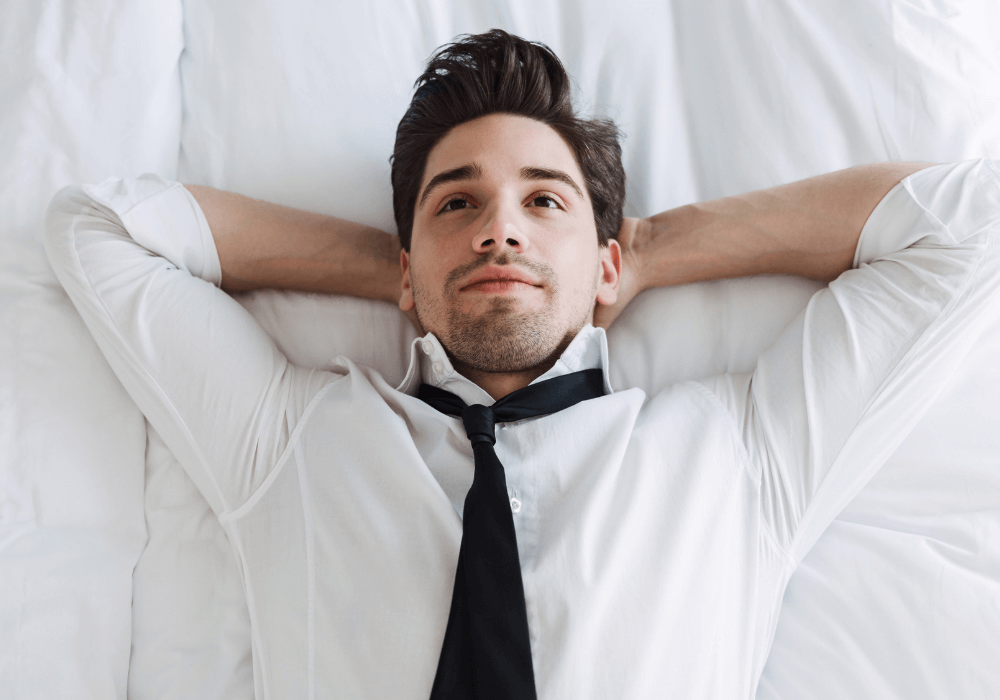person: (40, 20, 1000, 700)
